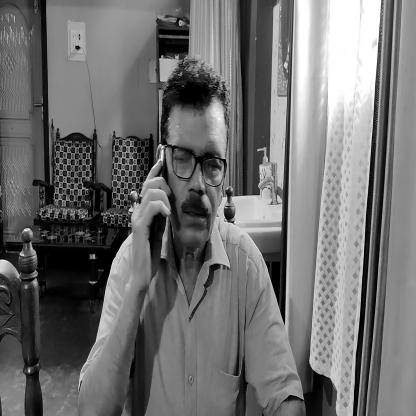Normal: (171, 72, 231, 244)
